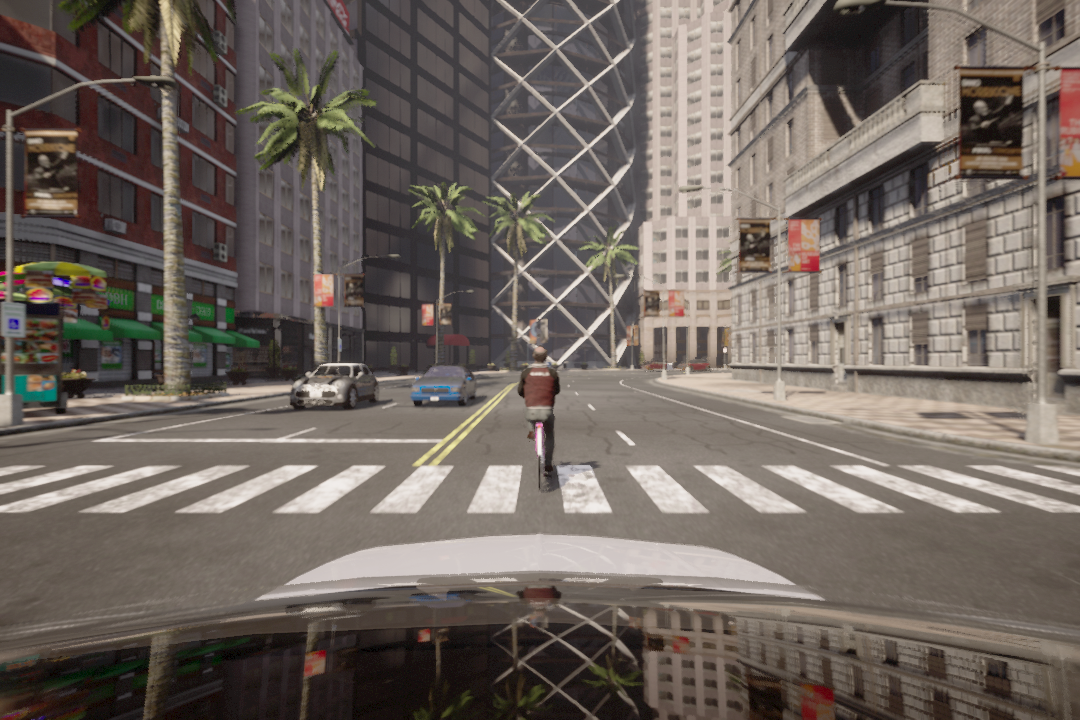walkside: (1, 463, 1080, 519)
